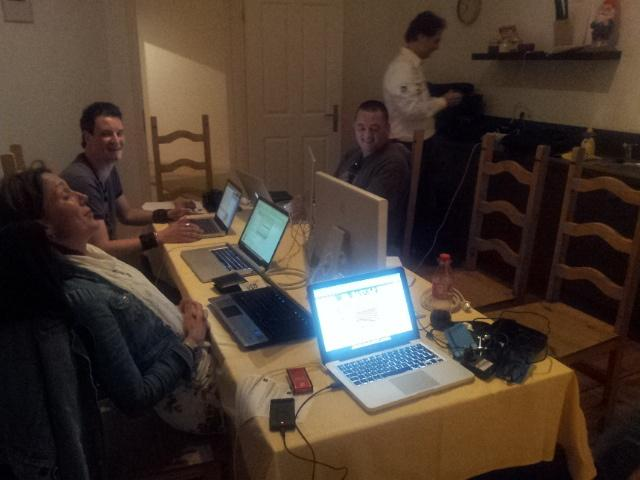Kursi: (478, 145, 639, 363), (421, 133, 551, 309)
